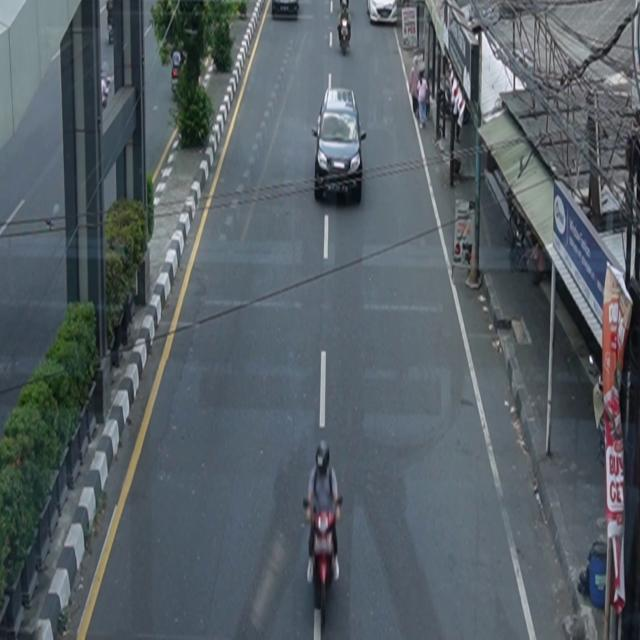car: (312, 87, 367, 205), (367, 1, 398, 25), (272, 1, 300, 17)
